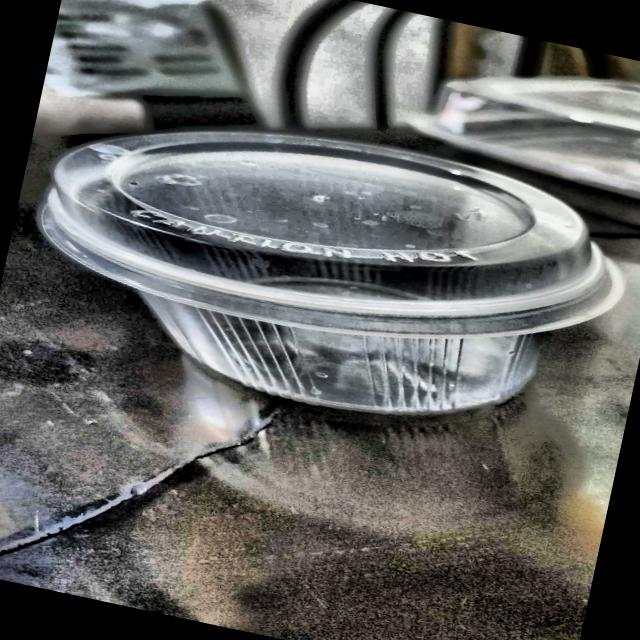plastic container: (39, 131, 624, 414)
